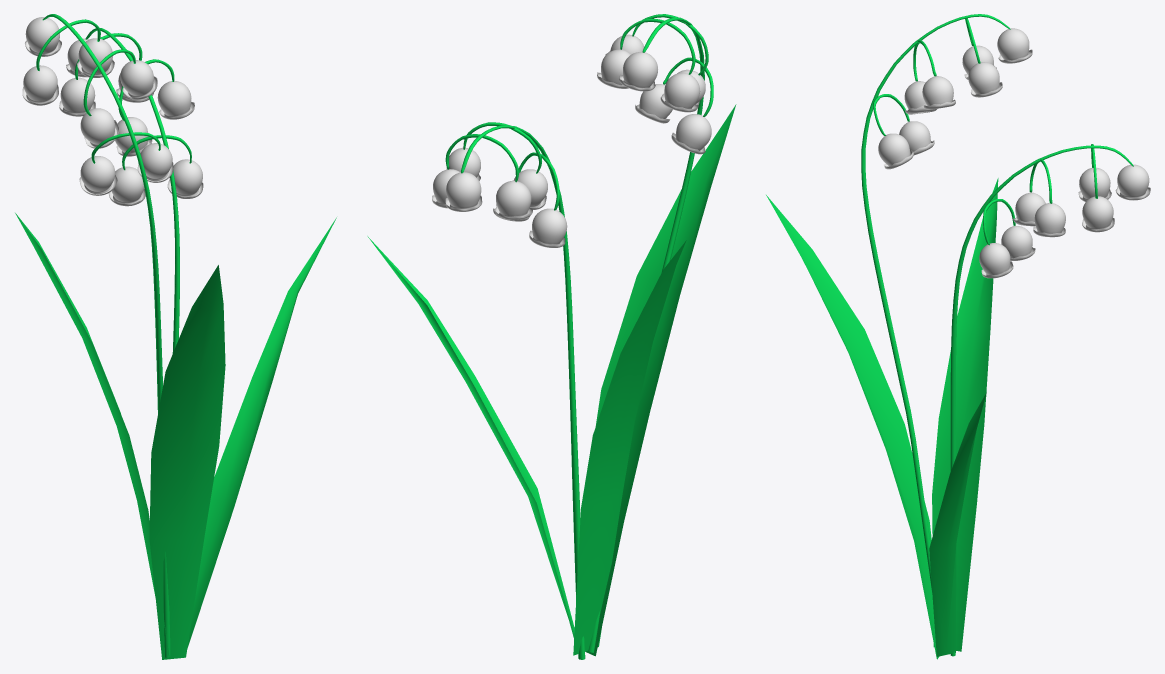
File: スズラン2つ.fbx
3 renders of one model, left to right at view 1: azimuth 30°, elevation 25°; view 2: azimuth 150°, elevation 25°; view 3: azimuth 270°, elevation 25°, orthographic. The views are drawn at different scales.
Parts seen in each view (by area): view 1: hana.001; view 2: hana.001; view 3: hana.001.
Boxes of the visible parts, <box> form: hana.001: <box>15,14,336,659</box>; hana.001: <box>367,14,736,659</box>; hana.001: <box>766,14,1150,659</box>.
Size of the model in its own units: 12.11 by 23.69 by 13.81.
